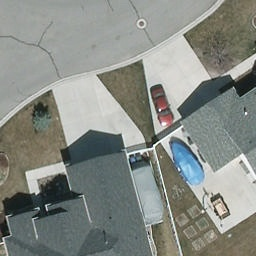car: (148, 84, 177, 125)
